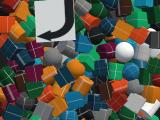Right: (34, 0, 75, 42)
